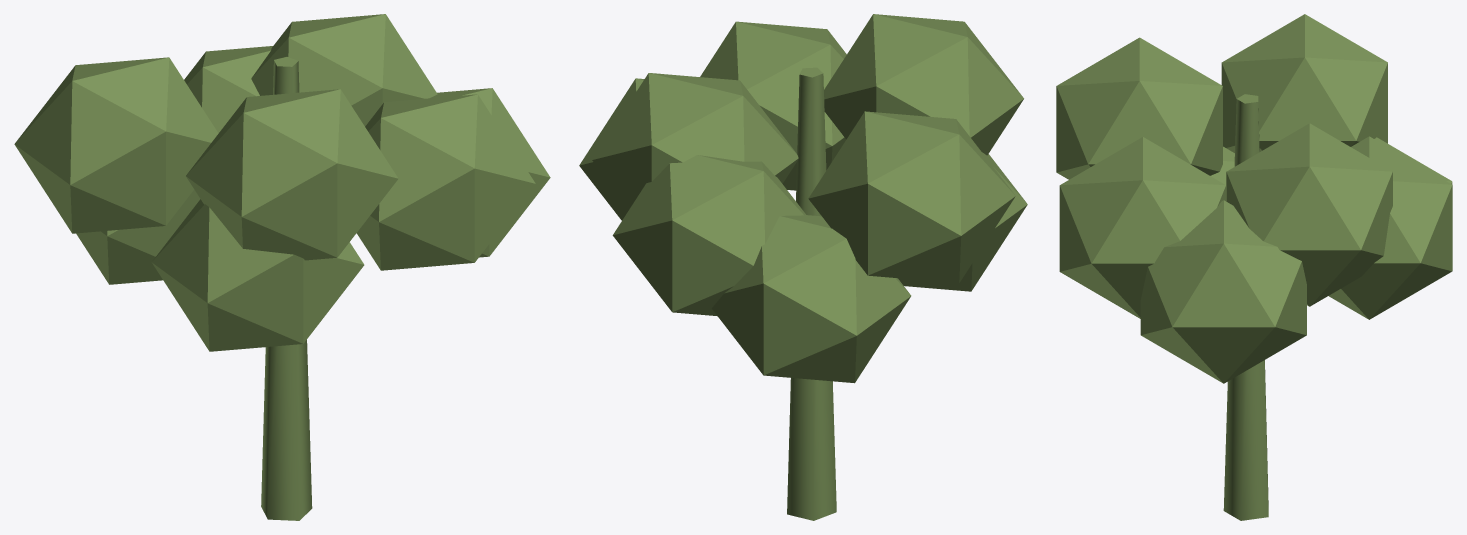
3 views of the same model, side by side, from view 1: azimuth 30°, elevation 25°; view 2: azimuth 150°, elevation 25°; view 3: azimuth 270°, elevation 25° (orthographic). The views are drawn at different scales.
Visible parts, largest first — view 1: shadow-crown; view 2: shadow-crown; view 3: shadow-crown.
Part boxes in pixels (x1=…): shadow-crown: x1=14, y1=14, x2=550, y2=520; shadow-crown: x1=579, y1=14, x2=1027, y2=520; shadow-crown: x1=1056, y1=14, x2=1452, y2=520.
Size of the model in its own units: 7.83 by 8 by 6.71.
